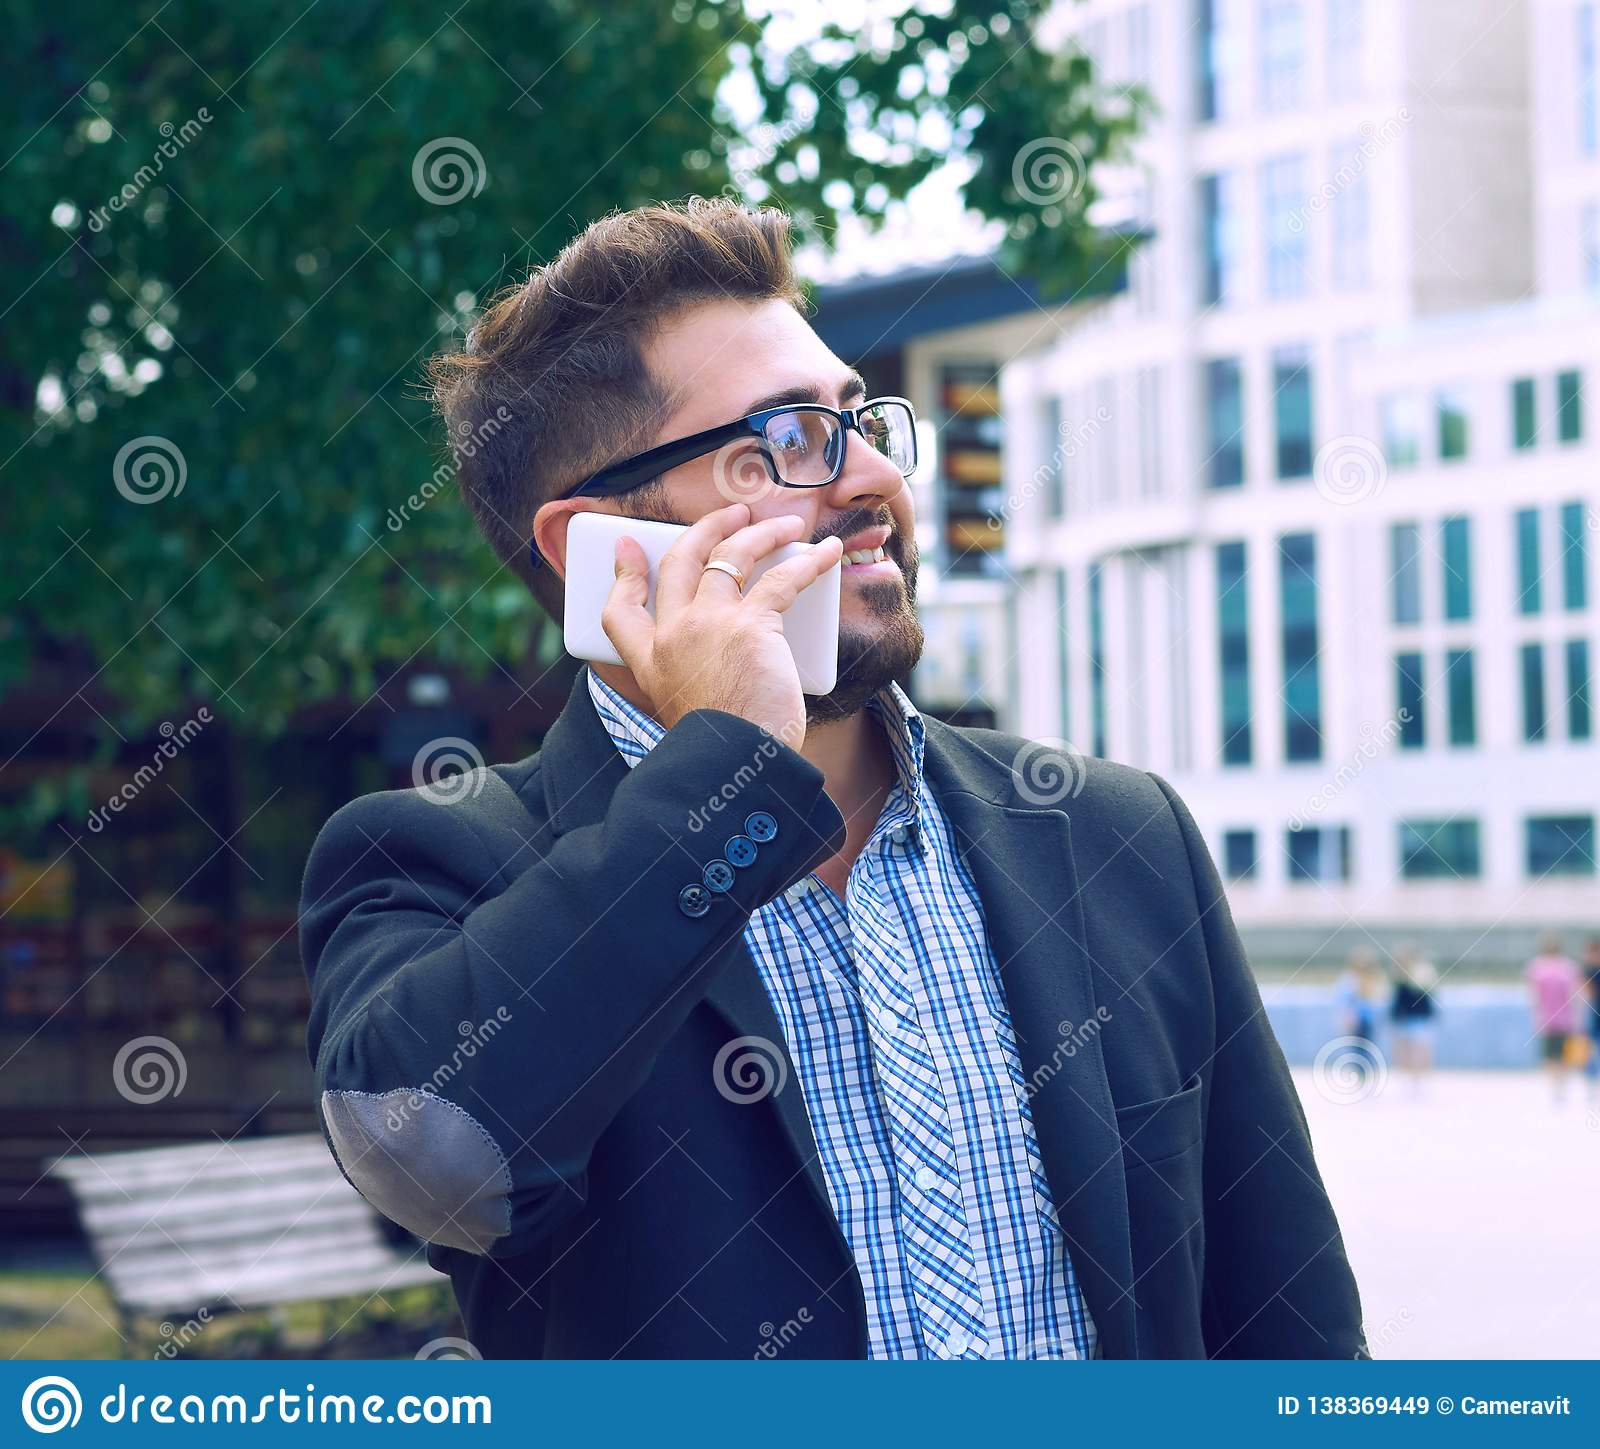phone: (559, 502, 856, 711)
talk: (556, 359, 925, 789)
